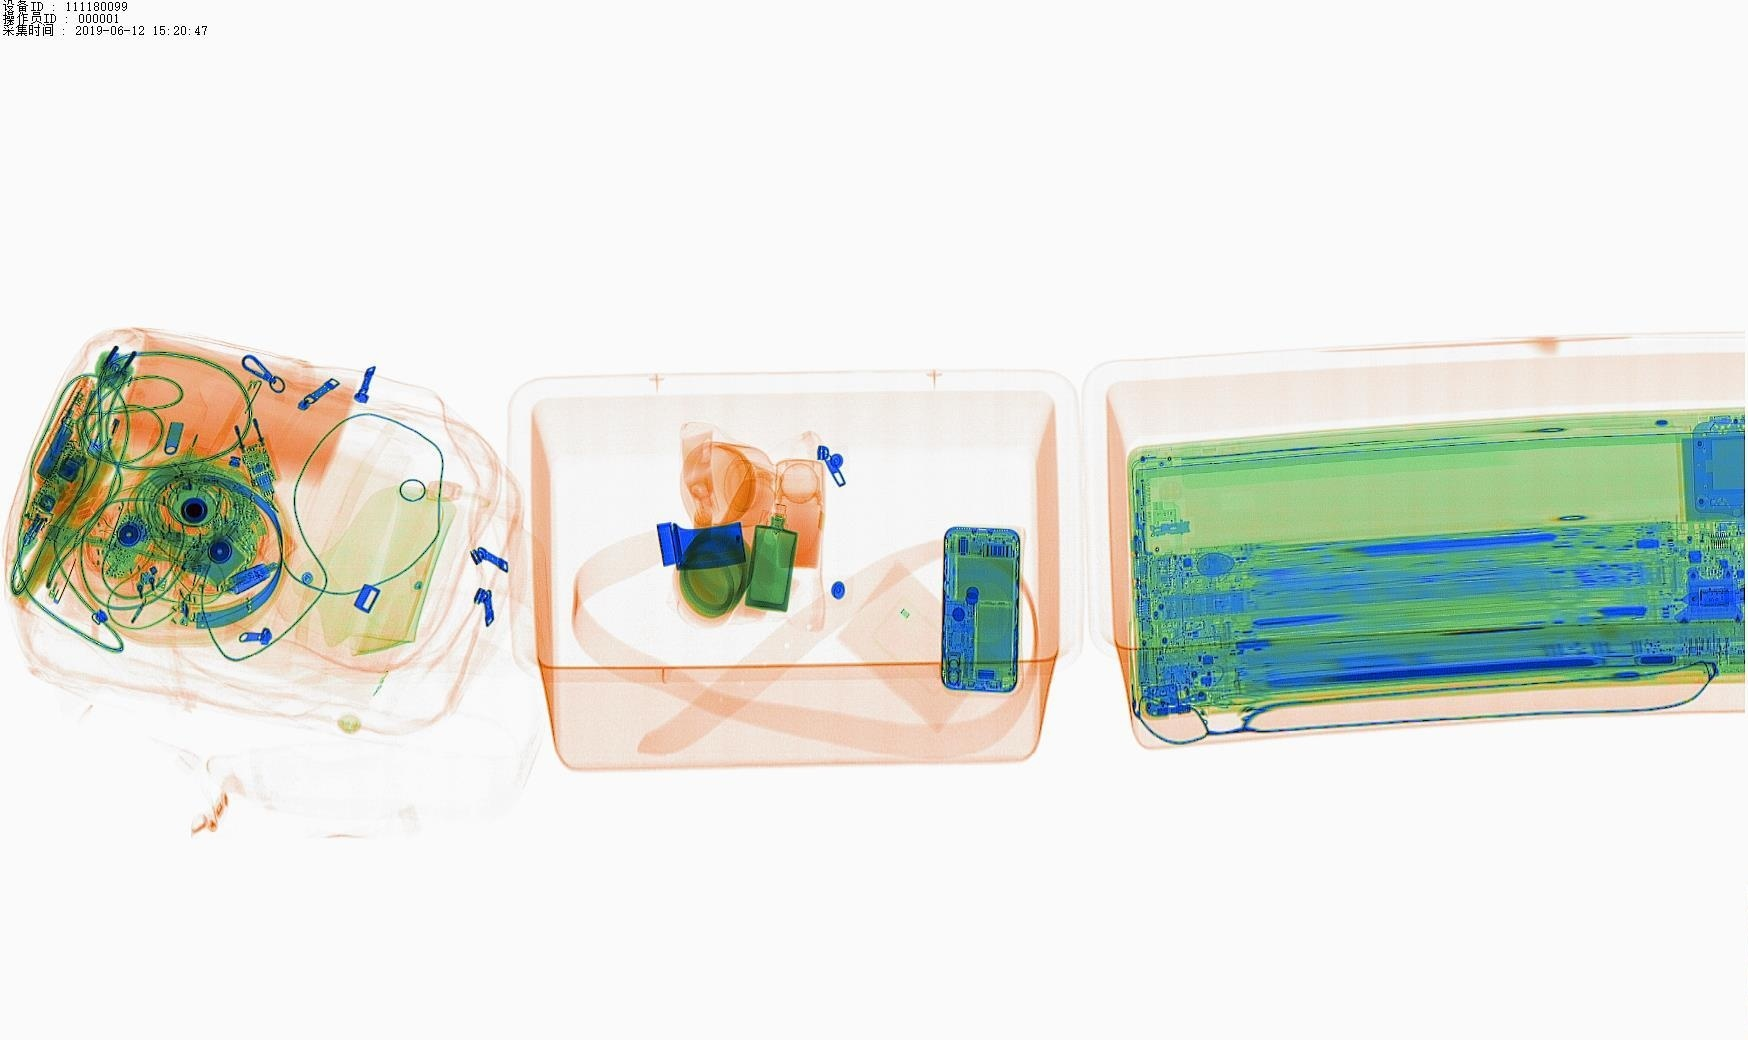NonmetallicFire: (78, 370, 144, 480)
